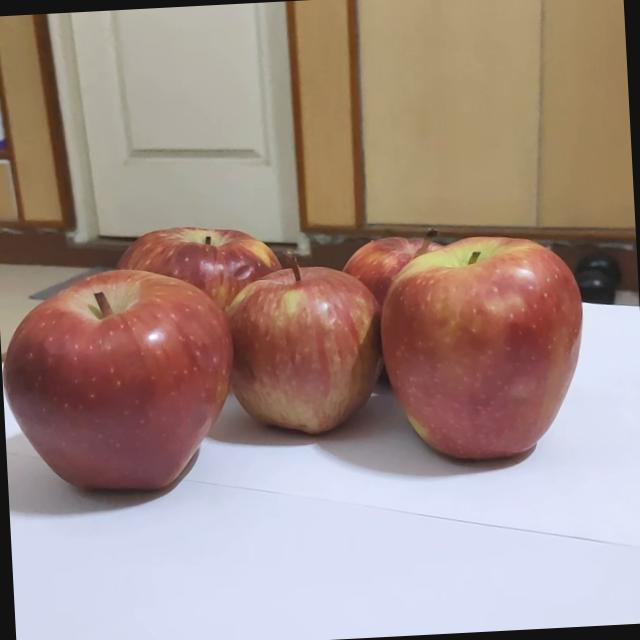apple: (3, 254, 248, 514), (92, 203, 297, 400), (390, 231, 586, 434), (228, 254, 402, 429), (327, 214, 475, 358)
